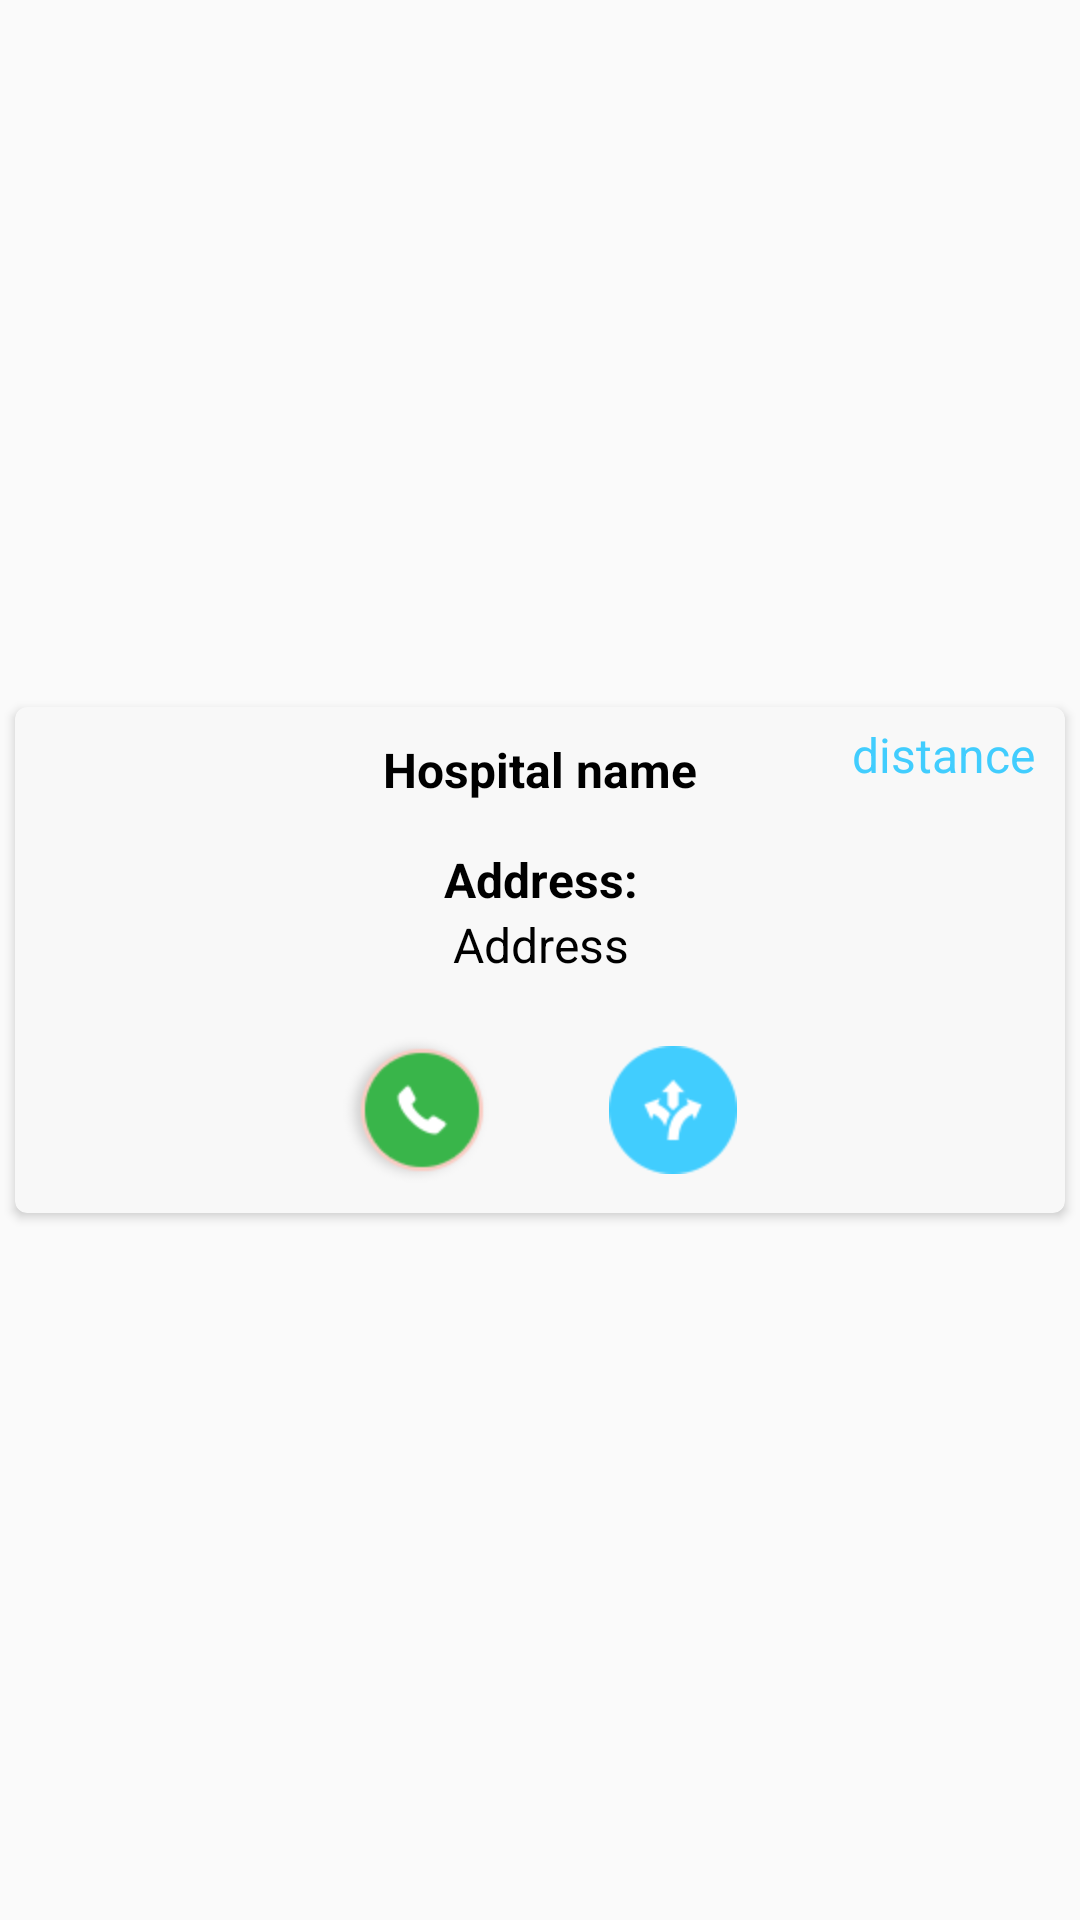

Named icons in this screenshot (1080w x 1920h) and their centers, point (x, y):
direction: point (673, 1110)
